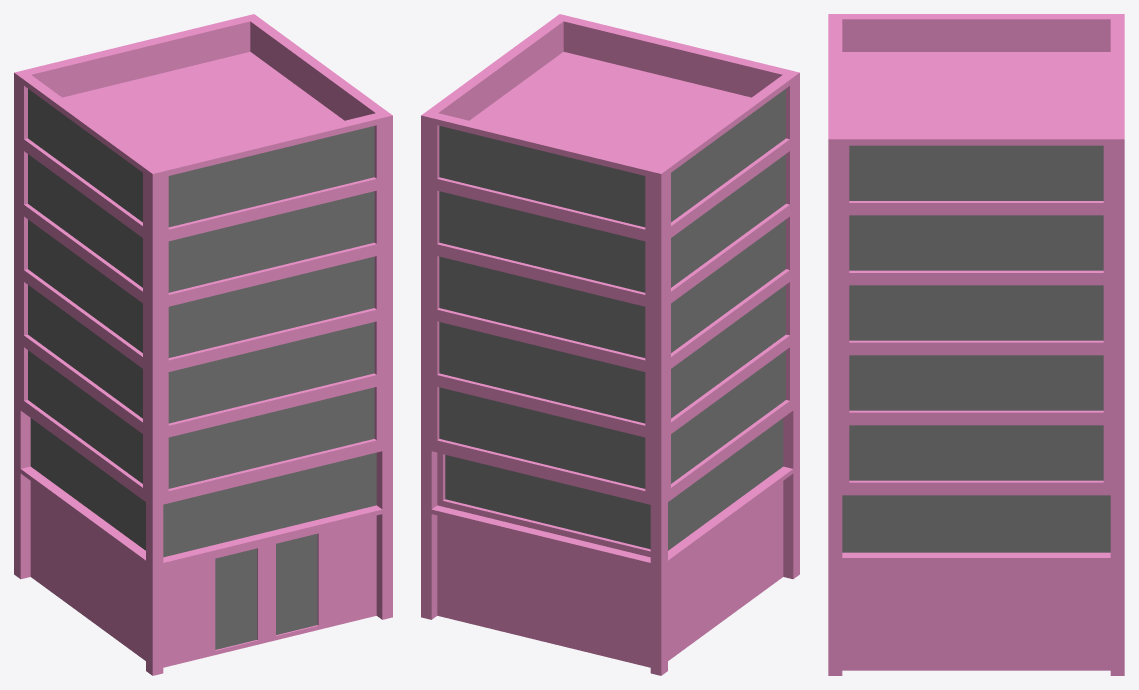
The picture shows the model from 3 angles, left to right: view 1: azimuth 30°, elevation 25°; view 2: azimuth 150°, elevation 25°; view 3: azimuth 270°, elevation 25°; orthographic projection. The views are drawn at different scales.
Parts seen in each view (by area): view 1: 6; view 2: 6; view 3: 6.
Part boxes in pixels (bbox=[...]): 6: bbox=[14, 14, 392, 675]; 6: bbox=[421, 14, 799, 675]; 6: bbox=[828, 14, 1124, 675].
Bounding box in the file's own units: 1200 × 2397 × 1200.
